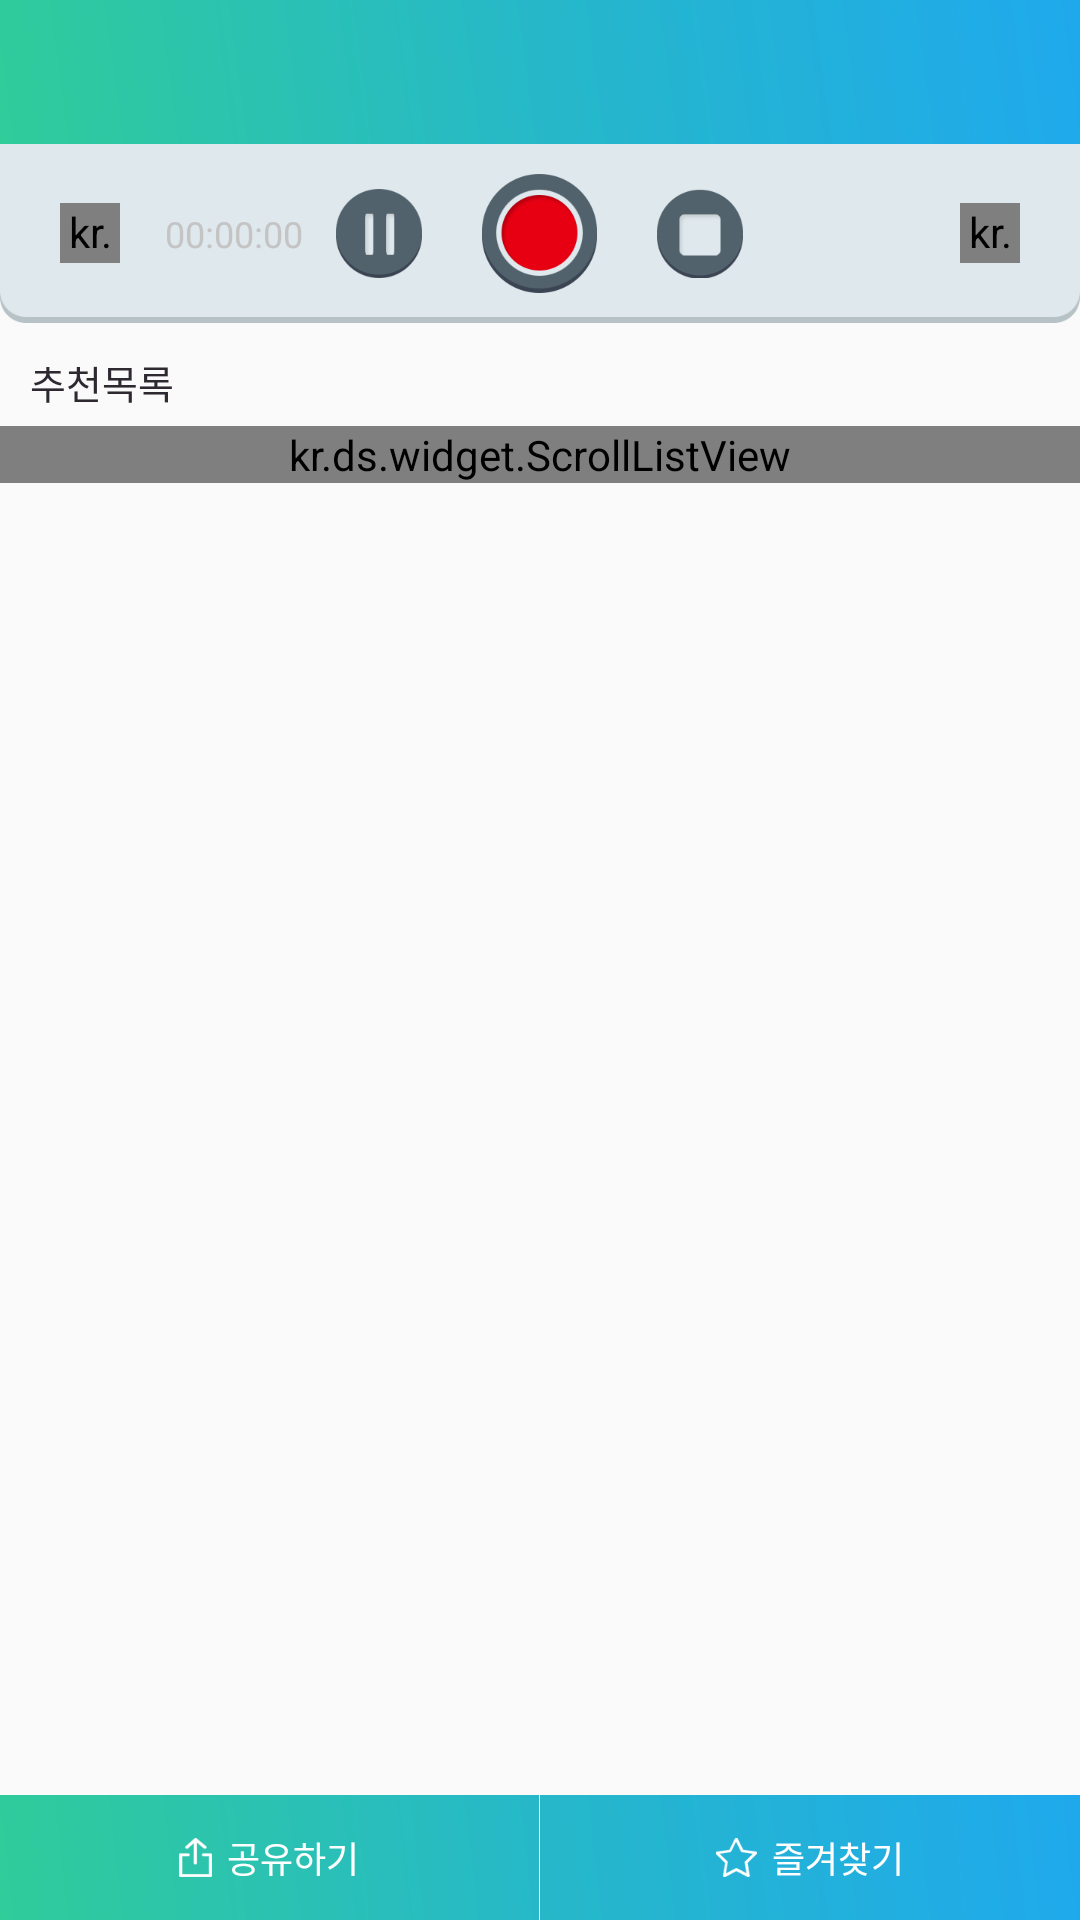

Named icons in this screenshot (1080 × 1920) and their centers, [x,y]:
pause: [379,233]
record: [539,233]
stop: [700,234]
